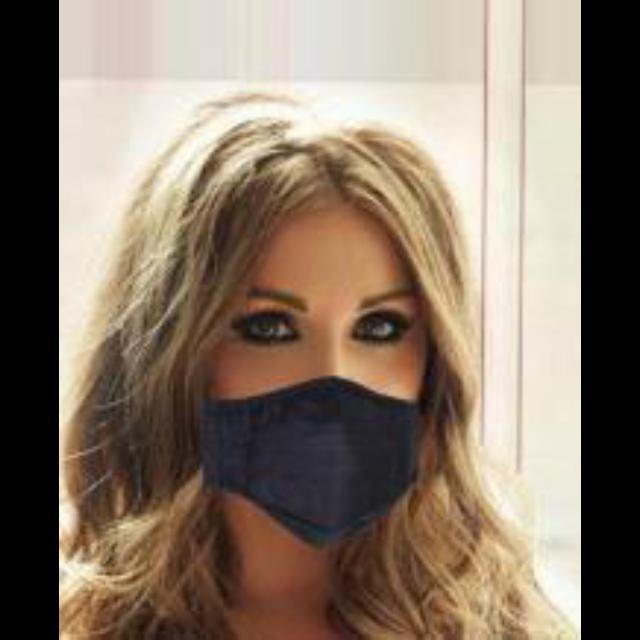suspicion: (169, 170, 453, 516)
